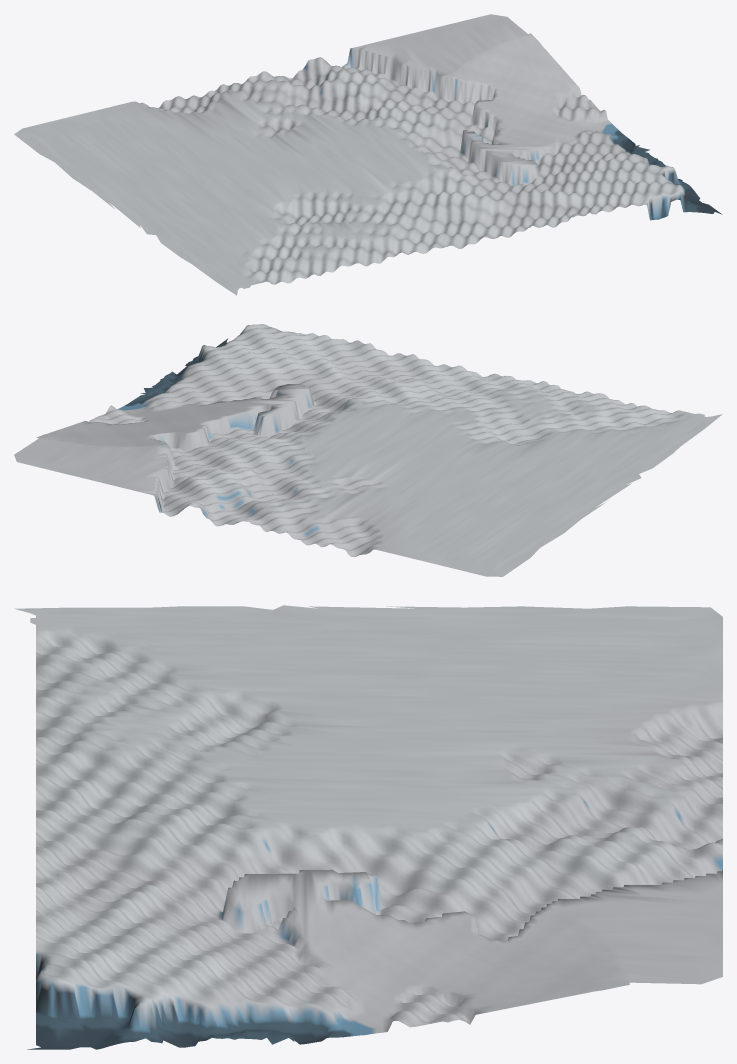
The model's file is frost_tile_x1z0.glb.
3 renders of one model, top to bottom at view 1: azimuth 30°, elevation 25°; view 2: azimuth 150°, elevation 25°; view 3: azimuth 270°, elevation 25°, orthographic. The views are drawn at different scales.
Visible parts, largest first — view 1: geometry_0; view 2: geometry_0; view 3: geometry_0.
Part boxes in pixels (<box>): geometry_0: <box>14,14,722,295</box>; geometry_0: <box>14,324,722,576</box>; geometry_0: <box>14,605,722,1049</box>.
Bounding box in the file's own units: 993 × 78 × 774.
